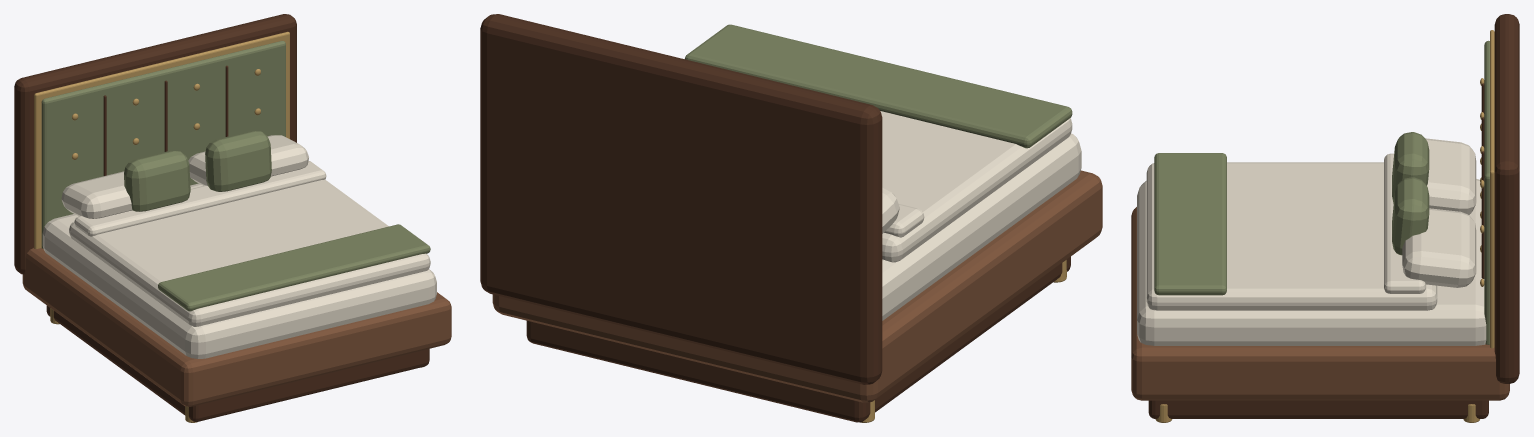
File: bed.glb
3 views of the same model, side by side, from view 1: azimuth 30°, elevation 25°; view 2: azimuth 150°, elevation 25°; view 3: azimuth 270°, elevation 25° (orthographic). The views are drawn at different scales.
Parts seen in each view (by area): view 1: BoutiqueHotelBed; view 2: BoutiqueHotelBed; view 3: BoutiqueHotelBed.
Boxes of the visible parts, x1=… form: BoutiqueHotelBed: x1=14, y1=14, x2=451, y2=422; BoutiqueHotelBed: x1=480, y1=14, x2=1102, y2=422; BoutiqueHotelBed: x1=1131, y1=14, x2=1519, y2=422.
Bounding box in the file's own units: 1.92 × 1.55 × 2.03.
